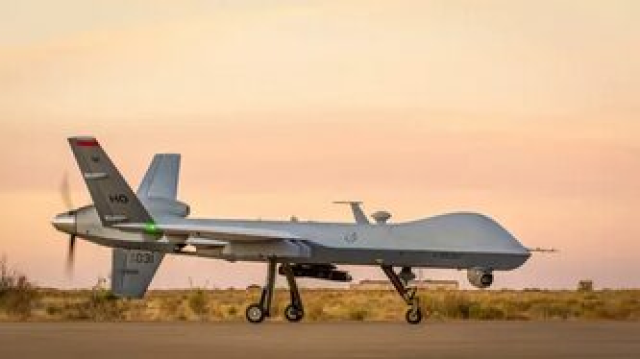military drone: (50, 136, 560, 323)
